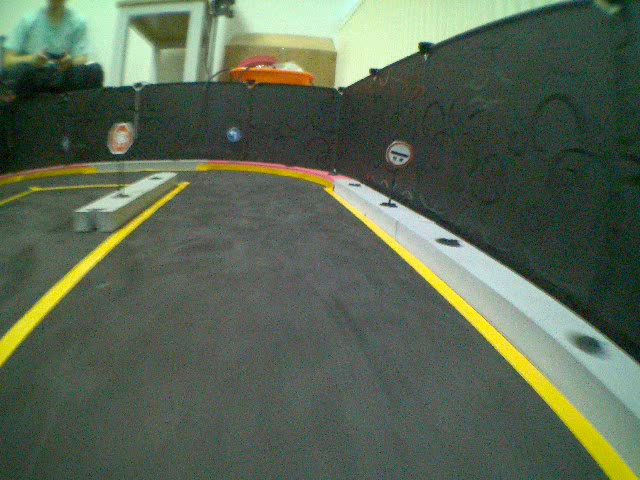Check: (385, 140, 413, 167)
Stop: (106, 120, 135, 154)
turn: (226, 125, 241, 144)
